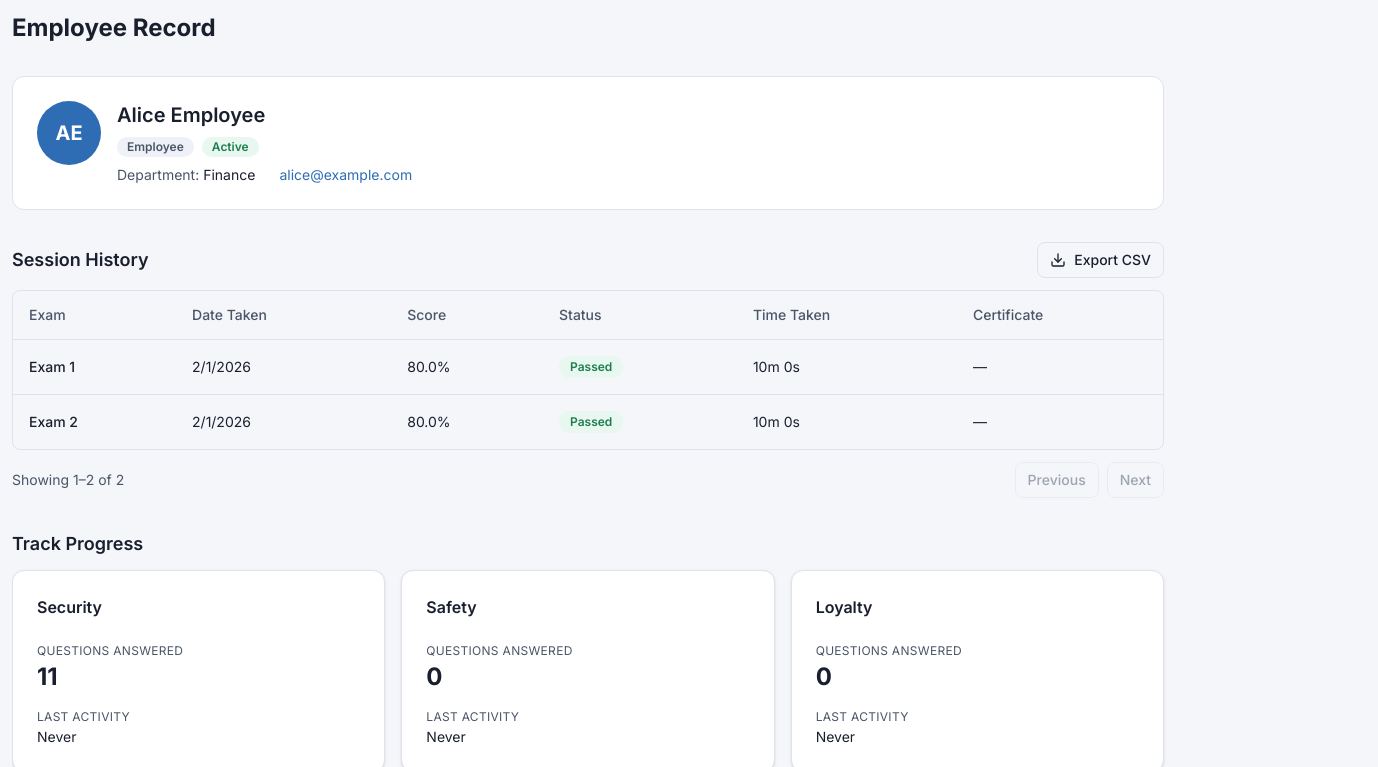
Test: EmployeeRecordPage (FR-BB58) › exports the record and shows a translated error if it fails
This screenshot has width=1378, height=767.
What coordinates should you click on to do the following:
click the button "Export CSV"
I would click on:
 (1101, 260)
Its box is [1037,242,1164,278].
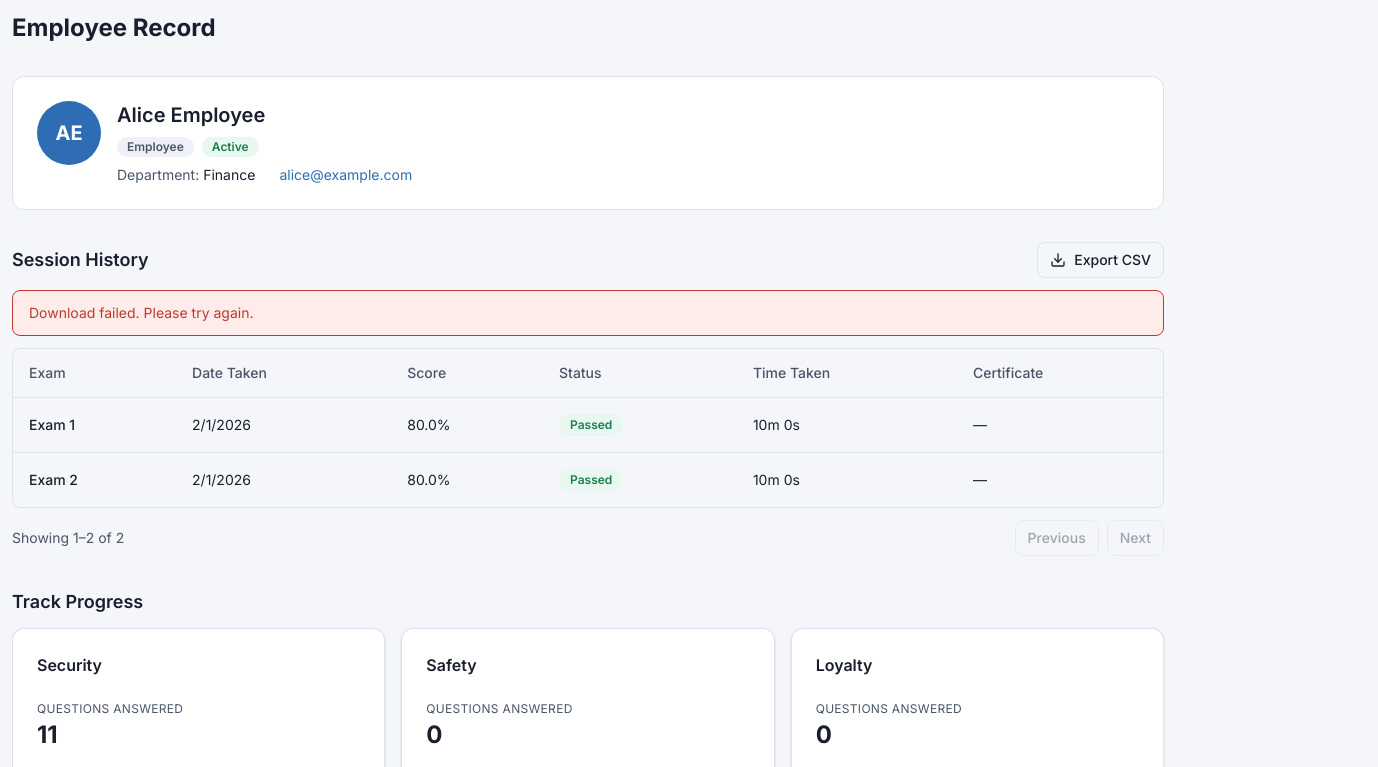
expect the message reads "Download failed. Please try again.": met, box [29,304,253,321]
